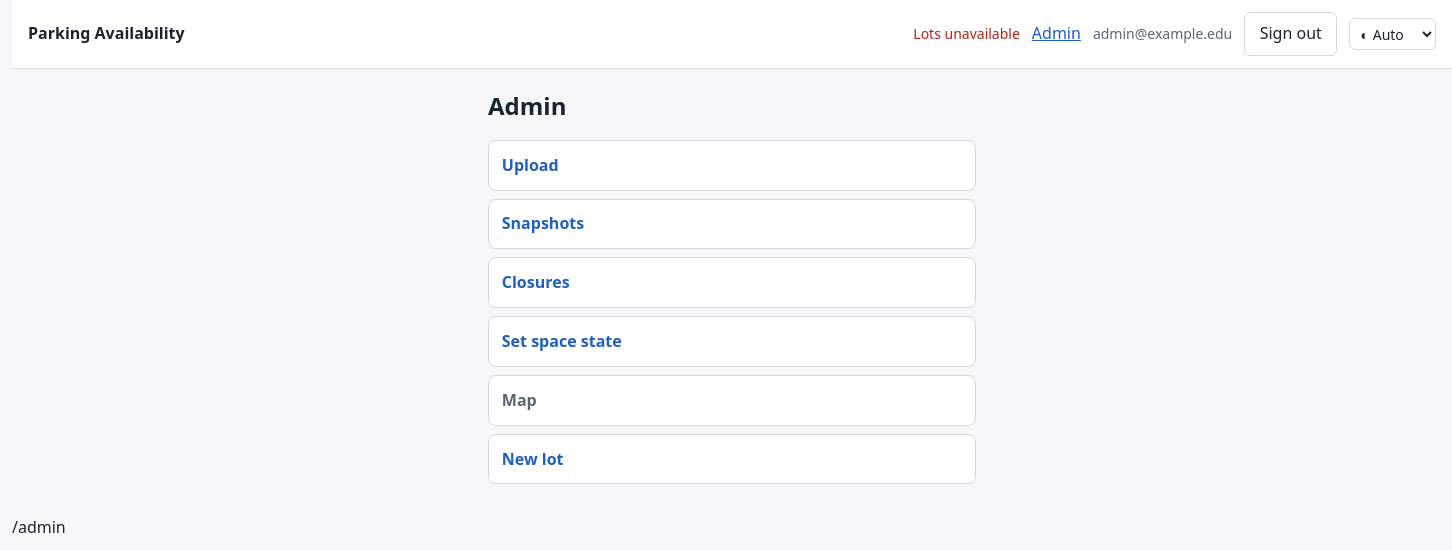
it: RequireAdmin › sign out clears the session and goes home
Click the button "Sign out". click: (1291, 34)
box: [1244, 12, 1337, 56]
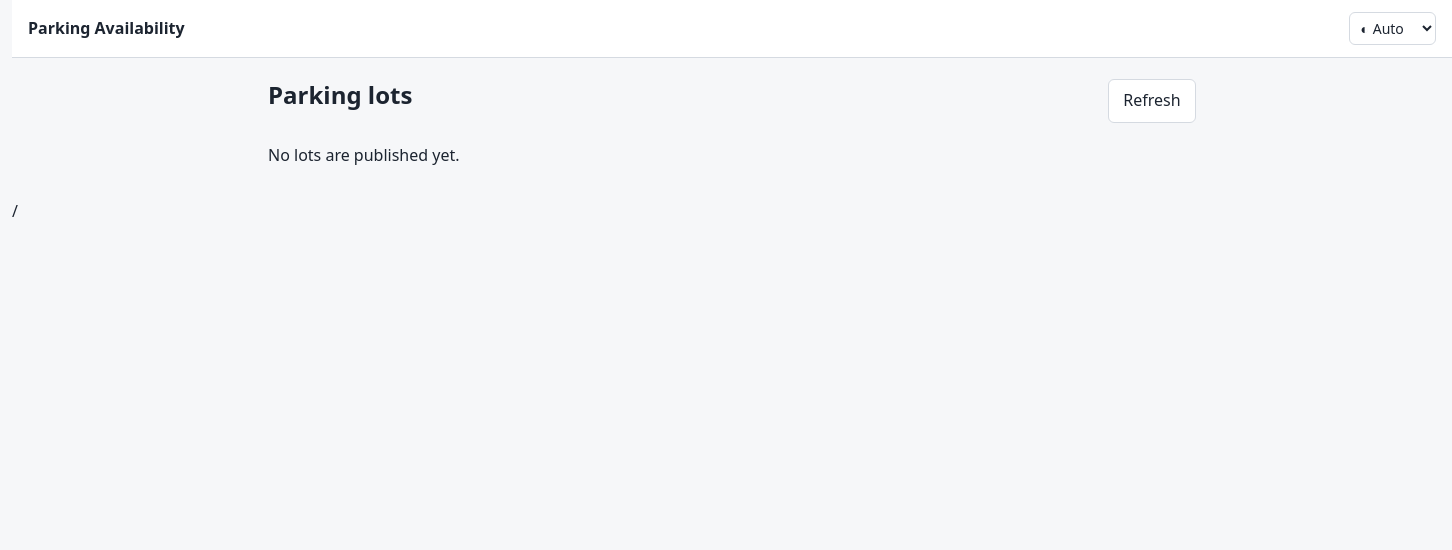
Now the text with test id "location" reads "/", box [12, 200, 18, 222]
